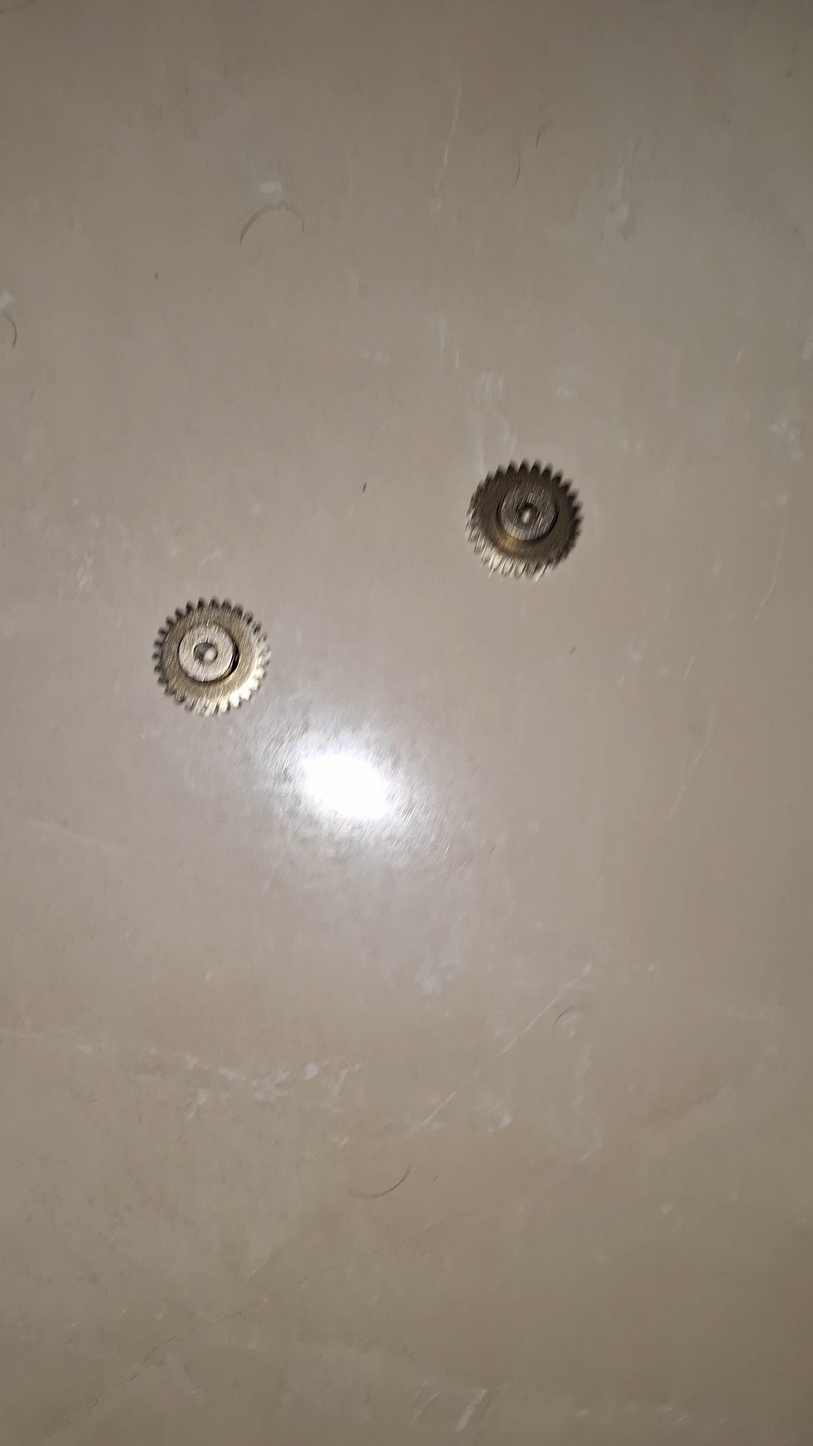spur gear: (154, 598, 268, 714), (469, 461, 580, 576)
